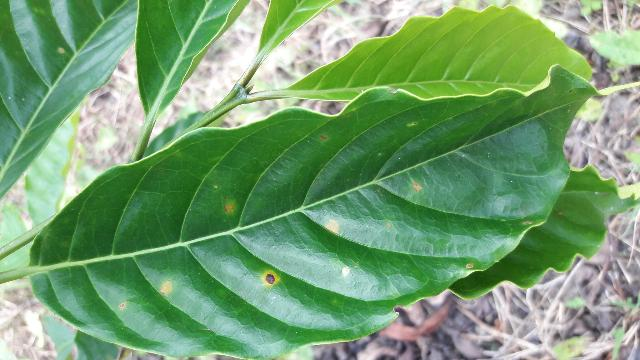rust_level_1: (27, 69, 635, 360)
